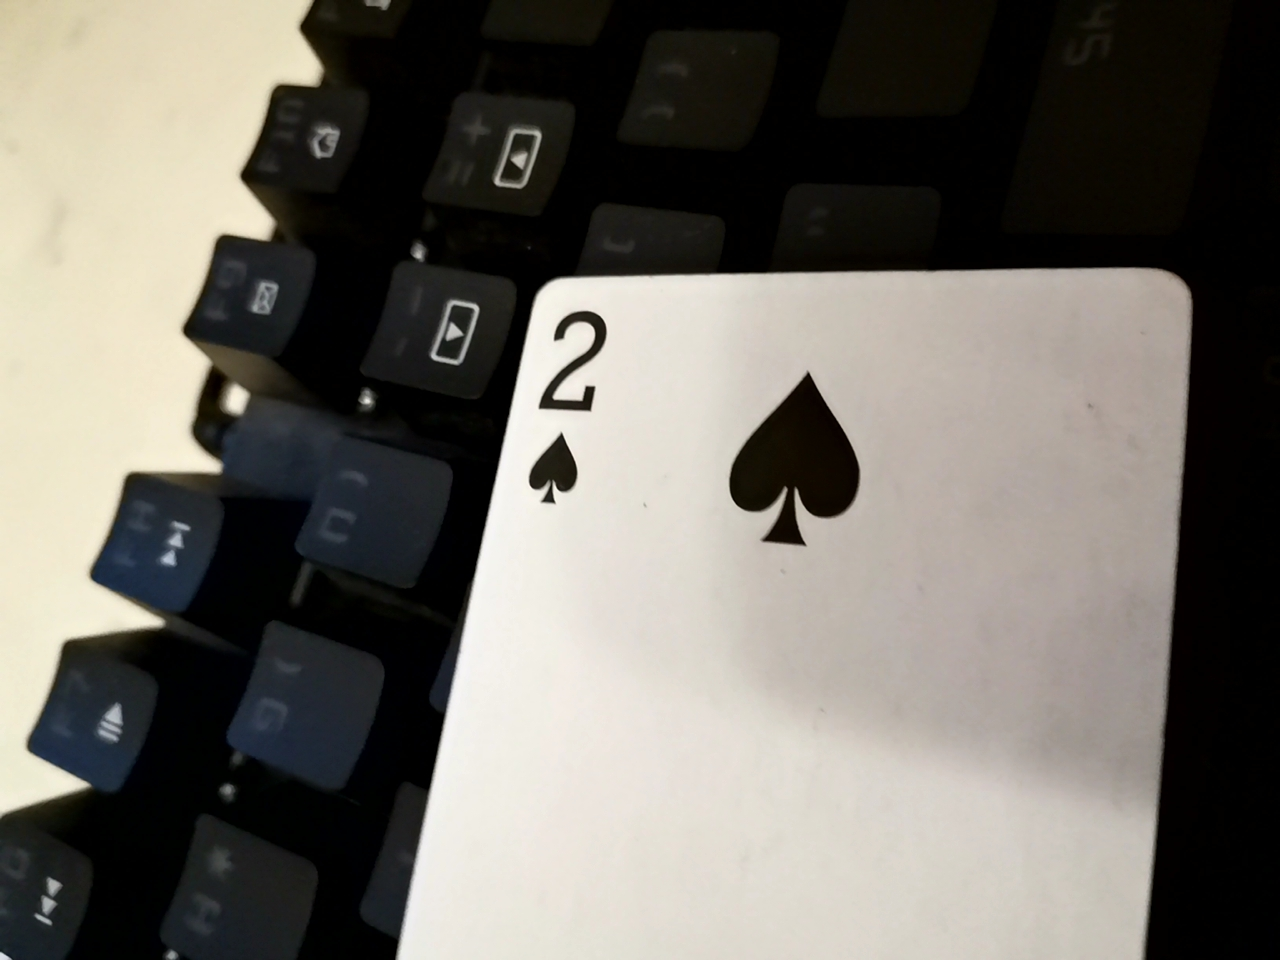ht 2: (328, 257, 1185, 958)
